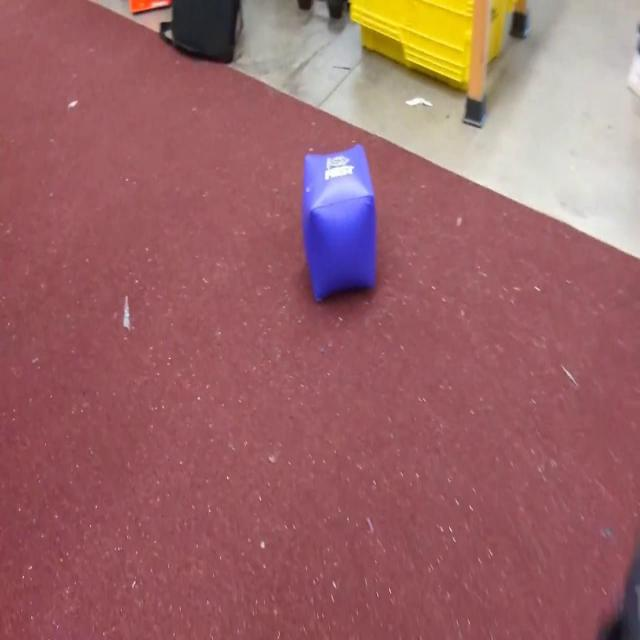frc_cube: (301, 140, 378, 306)
